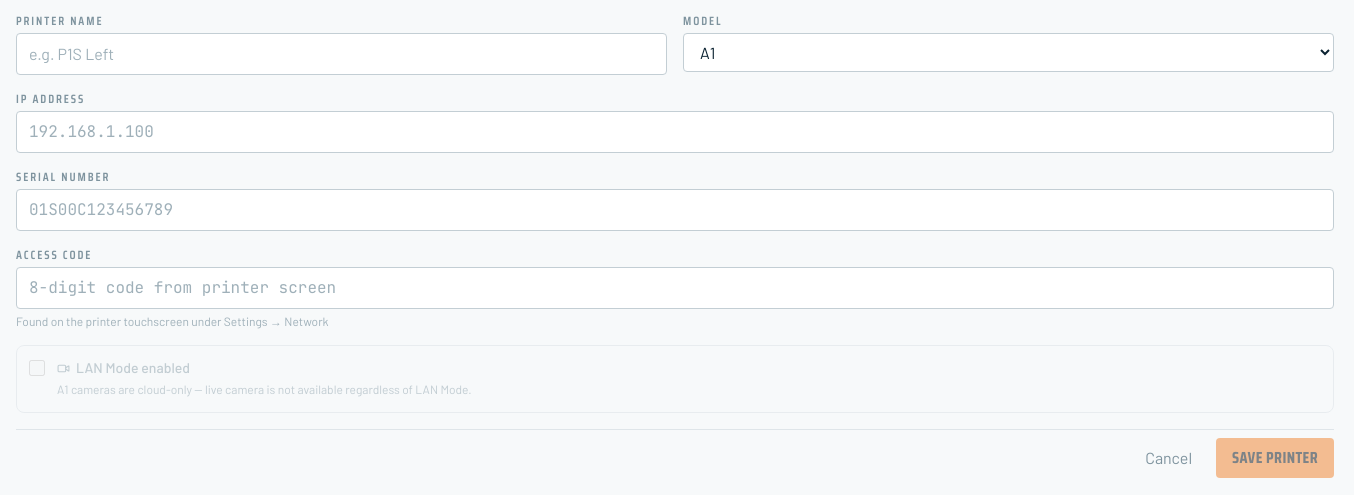
Test: PrinterForm › LAN Mode follows the selected model › turns on for a type that defaults it on
Select "H2D" in the dropdown at coordinates (1008, 52), box [683, 33, 1334, 72]
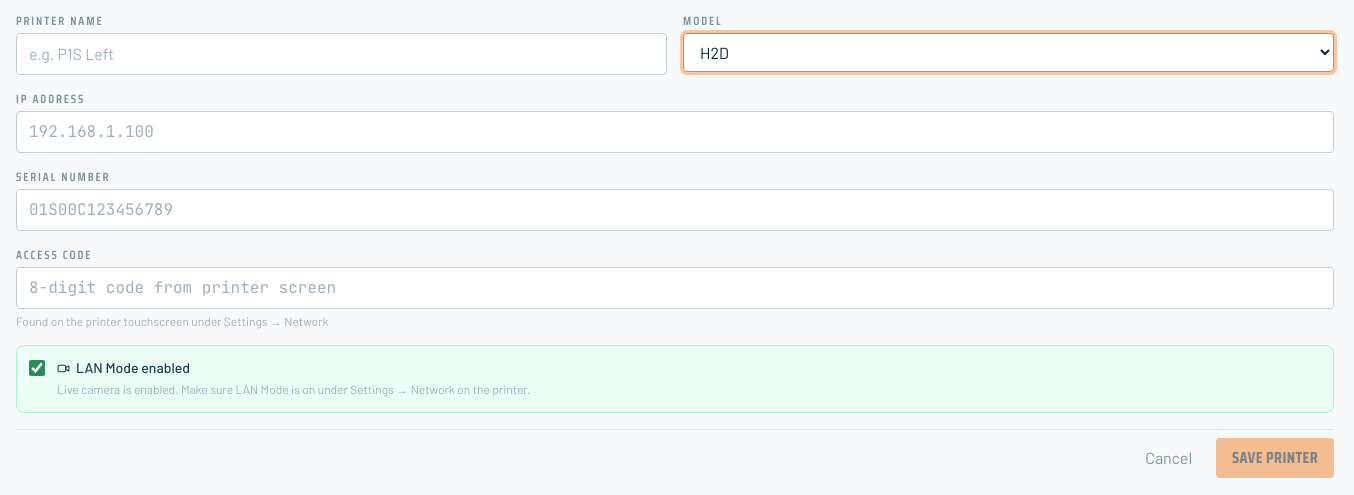
Result: the checkbox is checked at [29, 360, 45, 376]
